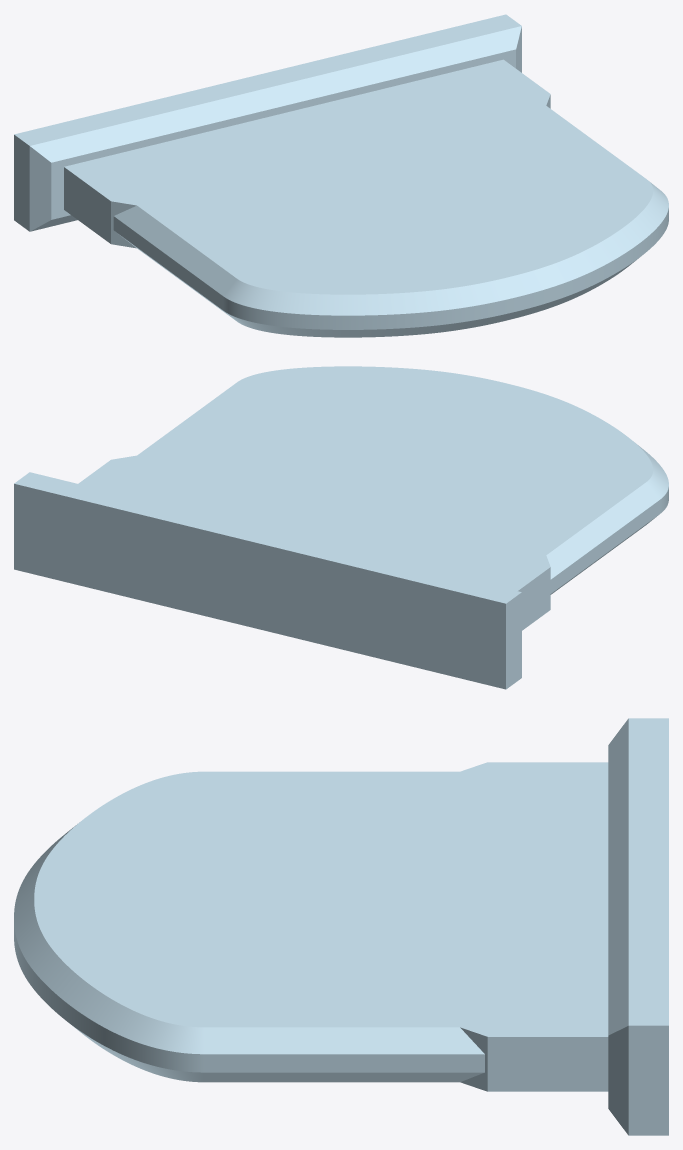
The picture shows the model from 3 angles, top to bottom: view 1: azimuth 30°, elevation 25°; view 2: azimuth 150°, elevation 25°; view 3: azimuth 270°, elevation 25°; orthographic projection. The views are drawn at different scales.
Parts seen in each view (by area): view 1: PA-180-F_LOD0; view 2: PA-180-F_LOD0; view 3: PA-180-F_LOD0.
Part boxes in pixels (x1,y1,x2,y2): PA-180-F_LOD0: [14, 14, 668, 337]; PA-180-F_LOD0: [14, 366, 668, 689]; PA-180-F_LOD0: [14, 718, 668, 1135].
Size of what is drawn, in the model's own units: 91.44 by 15.24 by 82.32.
